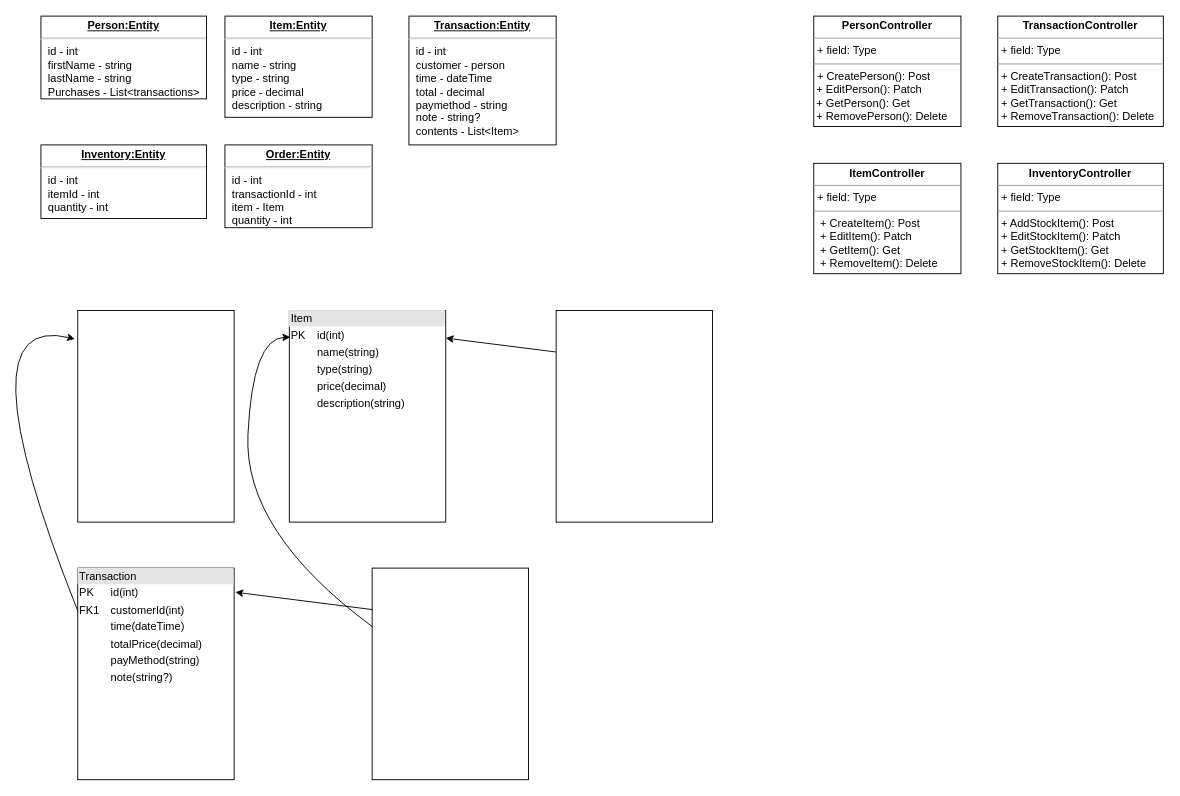
This 1180x796 diagram has some shape labels left out. Here are the shapes that lost their labels. From the top down, the centre of each, then its label:
At [155,416]: "Person PK id(int) firstName(string) lastName(string)".
At [634,416]: "Inventory PK id(int) FK1 ItemId(int) quantity(int)".
At [450,673]: "Order PK id(int) FK1 transactionId(int) FK2 itemId(int) quantity(int)".
